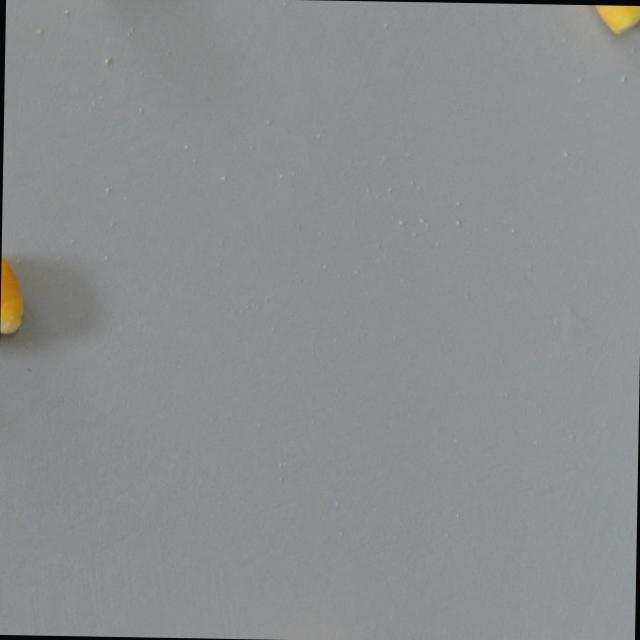no_canjicado: (0, 245, 26, 349), (582, 5, 640, 35)
